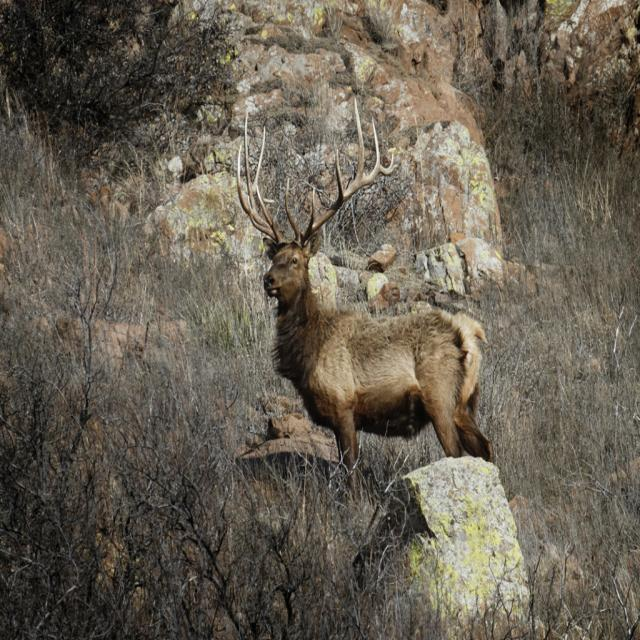Deer: (236, 97, 494, 502)
